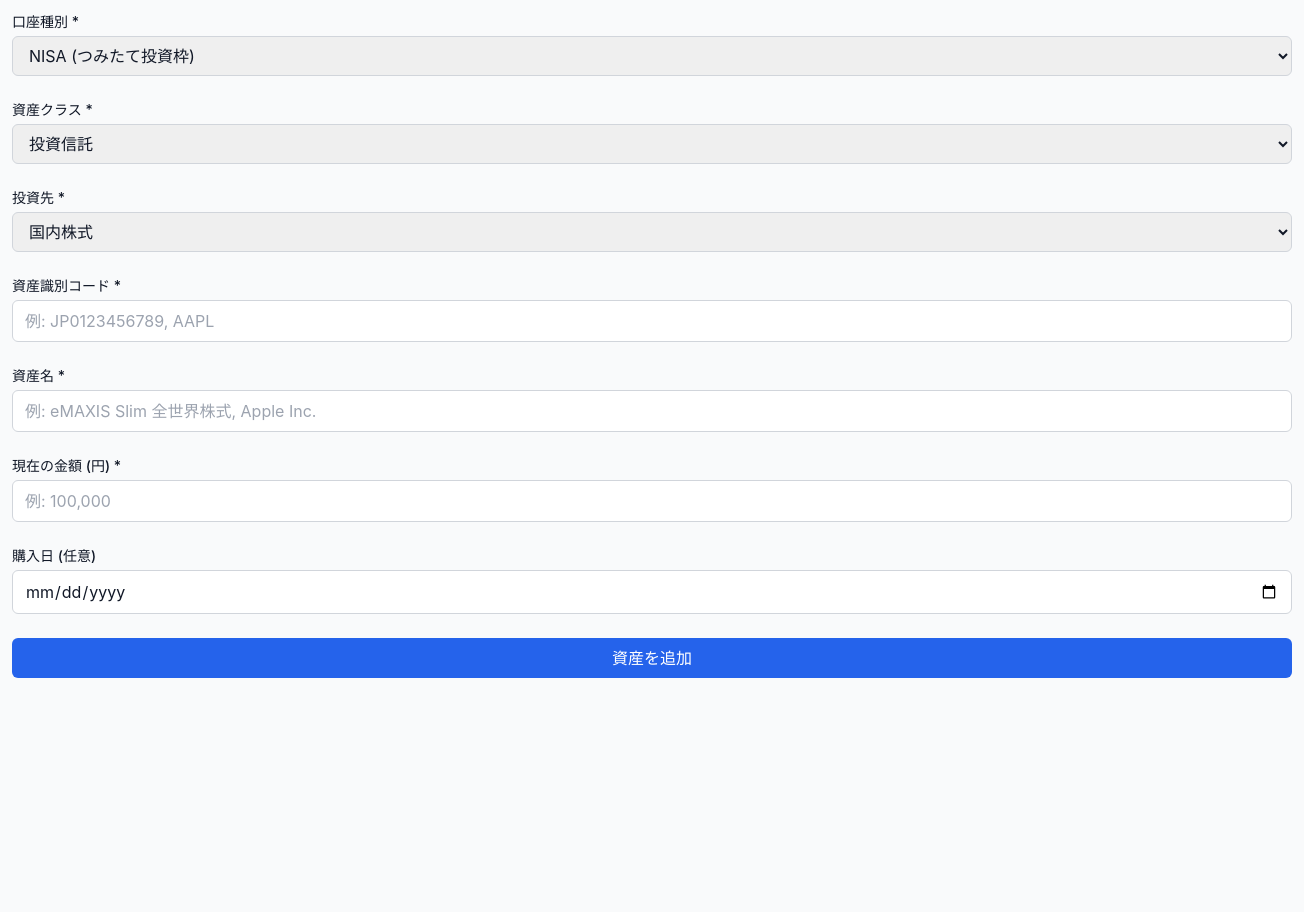
Test: HoldingsForm › displays loading state during submission
This screenshot has width=1304, height=912.
Type "JP0123456789" into the field labelled "資産識別コード *" at coordinates (652, 321), box x1=12 y1=300 x2=1292 y2=342
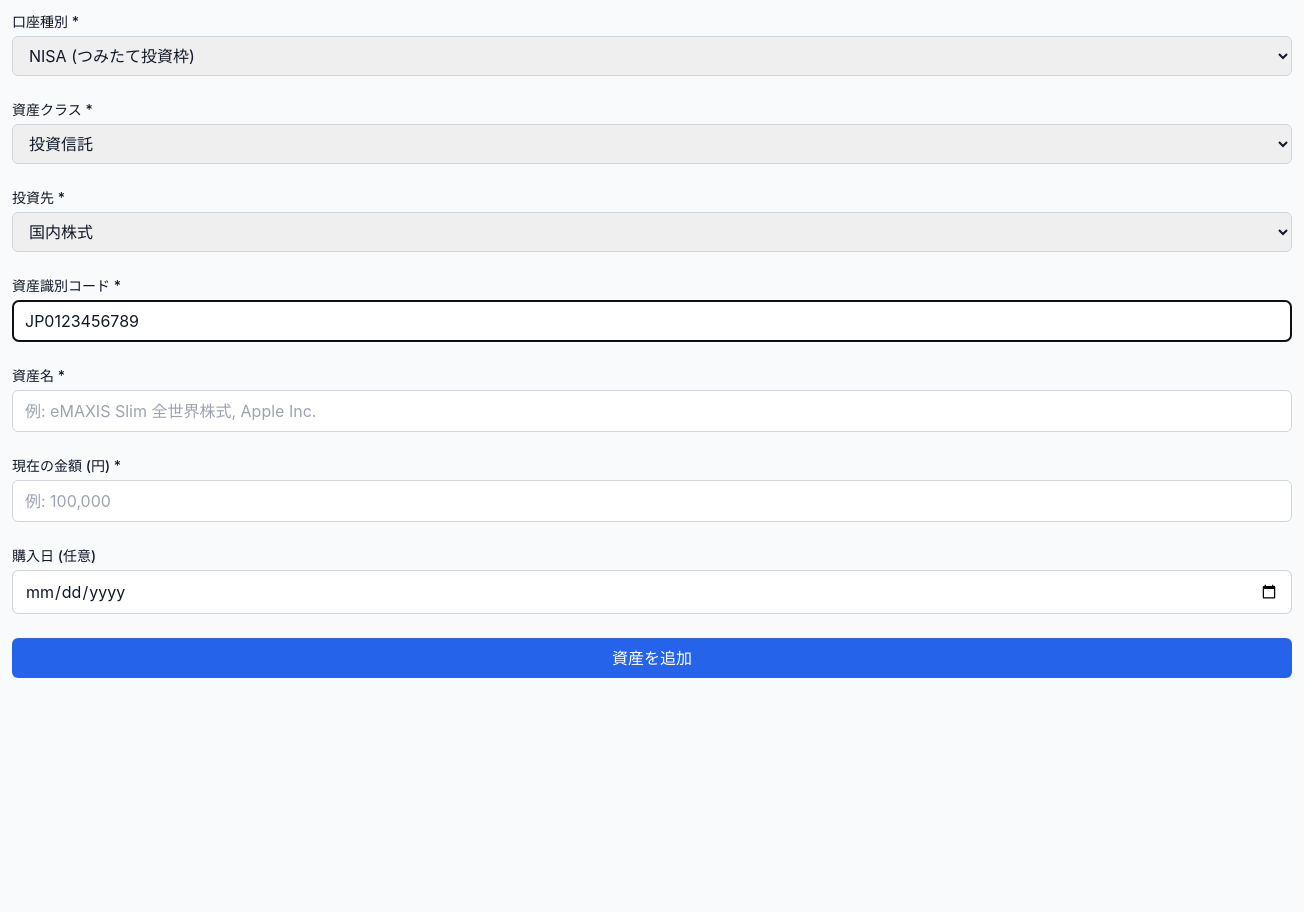
Type "Test Fund" into the field labelled "資産名 *" at coordinates (652, 411), box x1=12 y1=390 x2=1292 y2=432
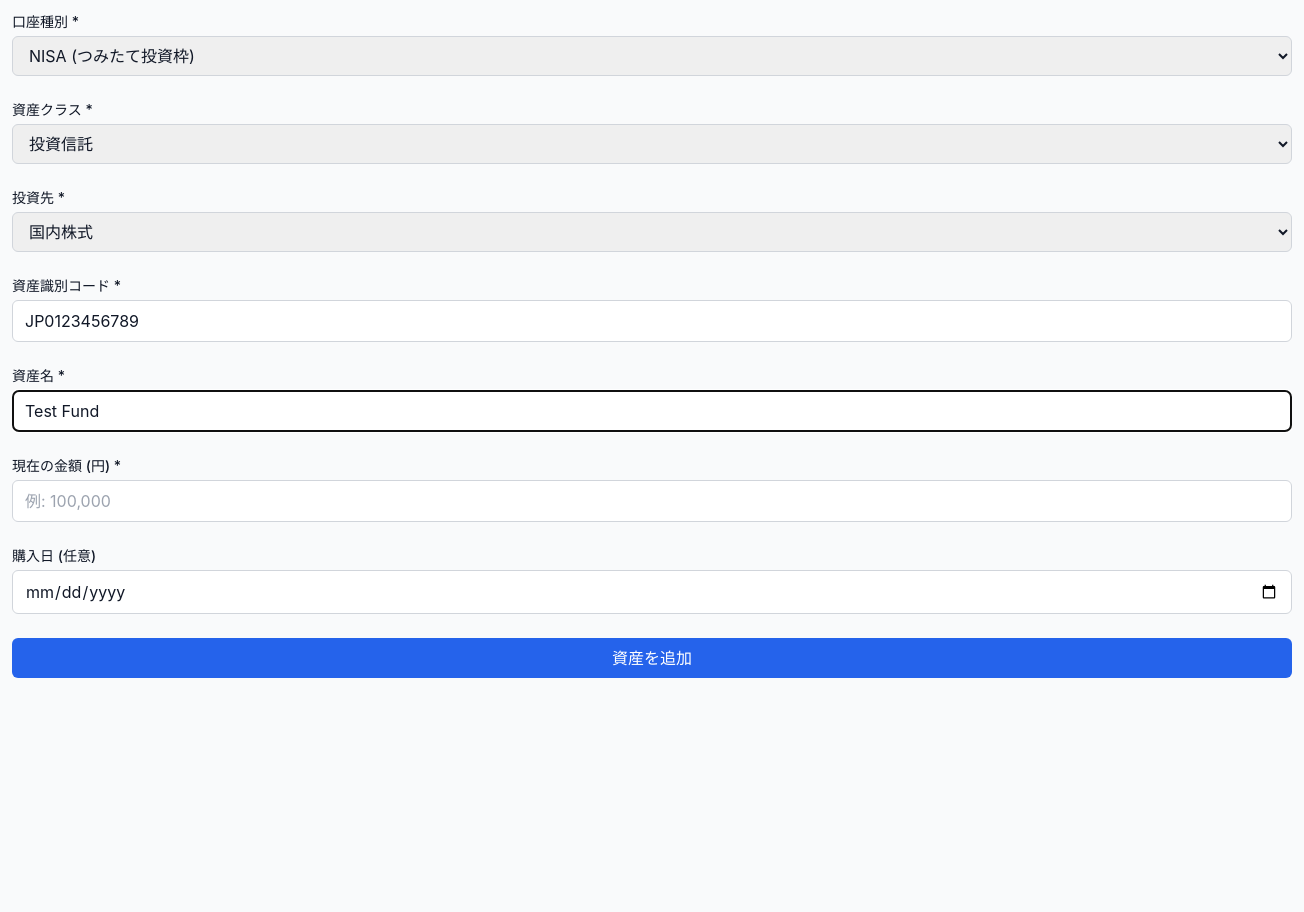
Click the button "資産を追加" at coordinates (652, 658), box x1=12 y1=638 x2=1292 y2=678
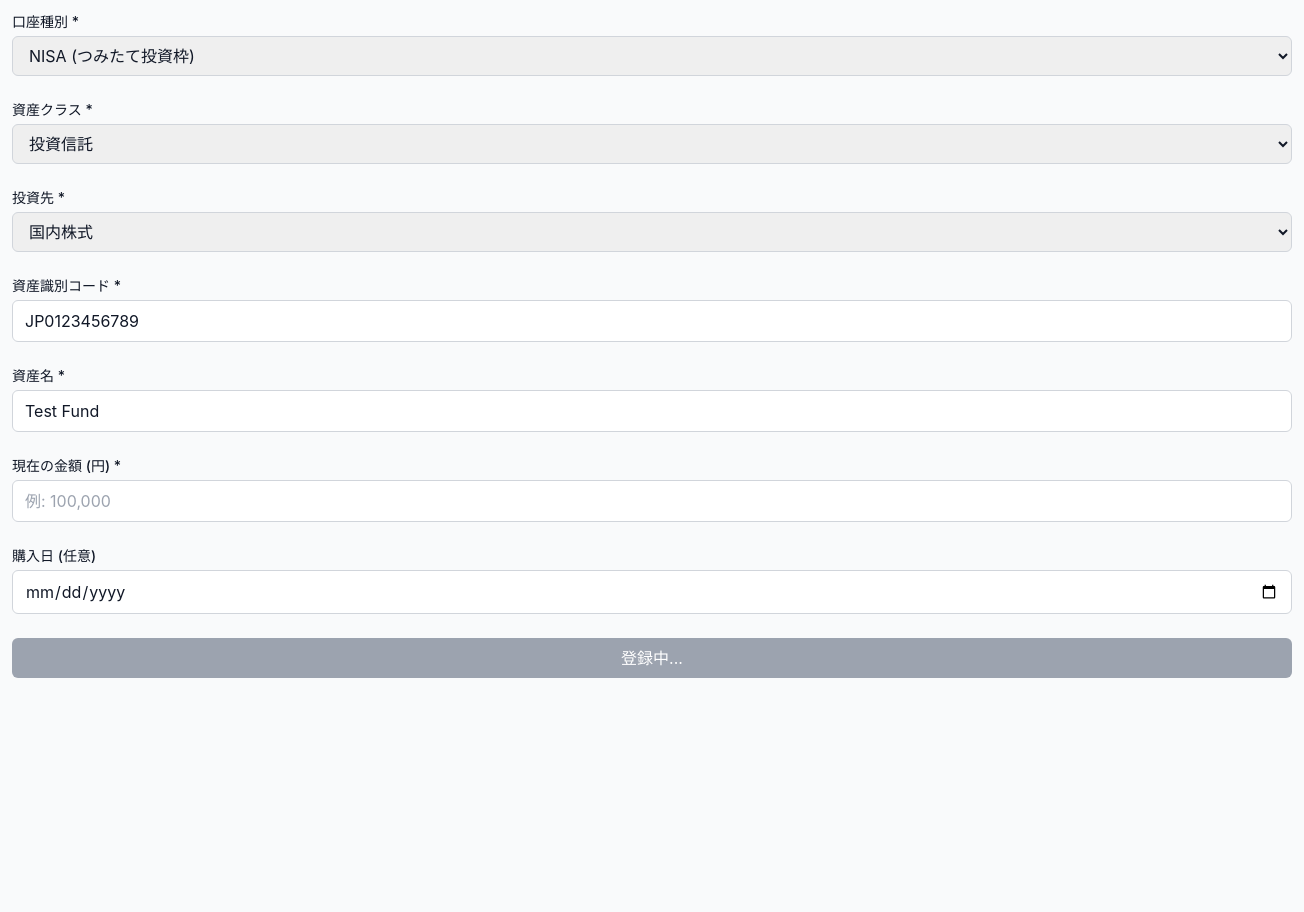
Expected: the button "登録中..." is shown, x1=12 y1=638 x2=1292 y2=678
